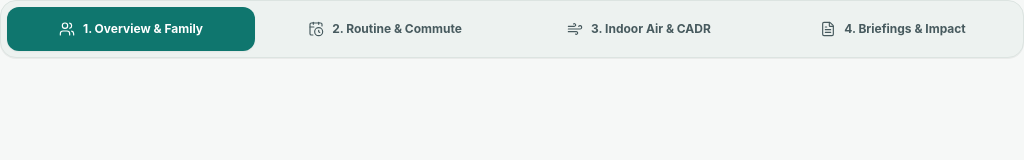
DashboardShell Component › switches to Briefings & Impact tab on click
What coordinates should you click on to do the following:
click the tab "4. Briefings & Impact"
I would click on:
 (893, 29)
Its box is [769,7,1017,51].
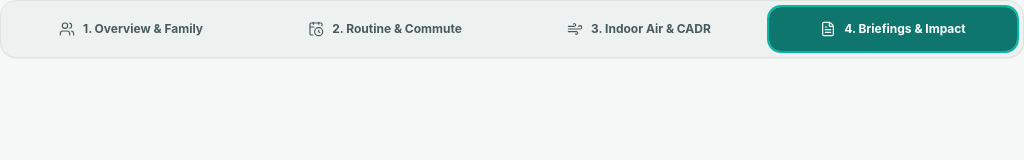
Now the tab "4. Briefings & Impact" is selected, box [769,7,1017,51]
